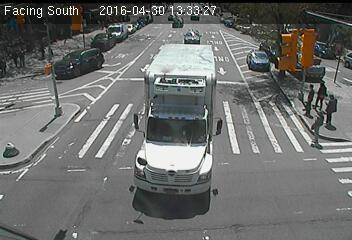neg: (54, 129, 84, 170), (223, 170, 253, 209), (205, 24, 234, 62), (79, 83, 107, 120), (122, 152, 149, 188), (8, 136, 34, 171), (288, 181, 313, 215), (257, 43, 282, 76), (33, 99, 58, 132), (253, 141, 278, 173), (235, 92, 257, 121), (129, 37, 150, 66), (68, 31, 89, 58), (314, 21, 334, 48), (171, 83, 190, 108), (34, 59, 50, 81), (123, 102, 134, 117)
pos: (310, 110, 337, 146), (319, 90, 344, 122), (300, 81, 323, 112), (316, 74, 336, 101)
